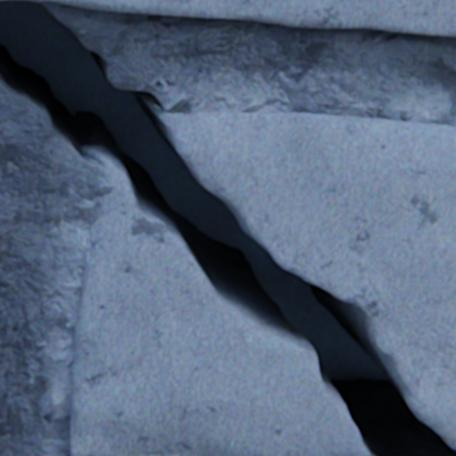brick: (34, 0, 455, 37)
broken_brick: (160, 112, 455, 447), (70, 165, 369, 455)
crack: (0, 0, 455, 455)
